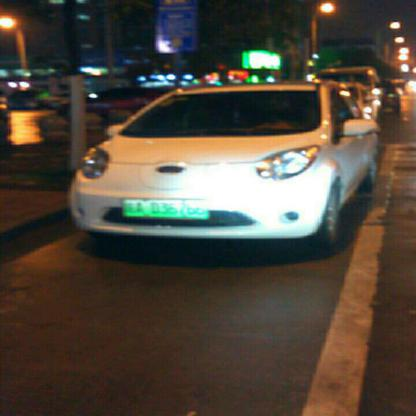lp: (120, 198, 209, 219)
